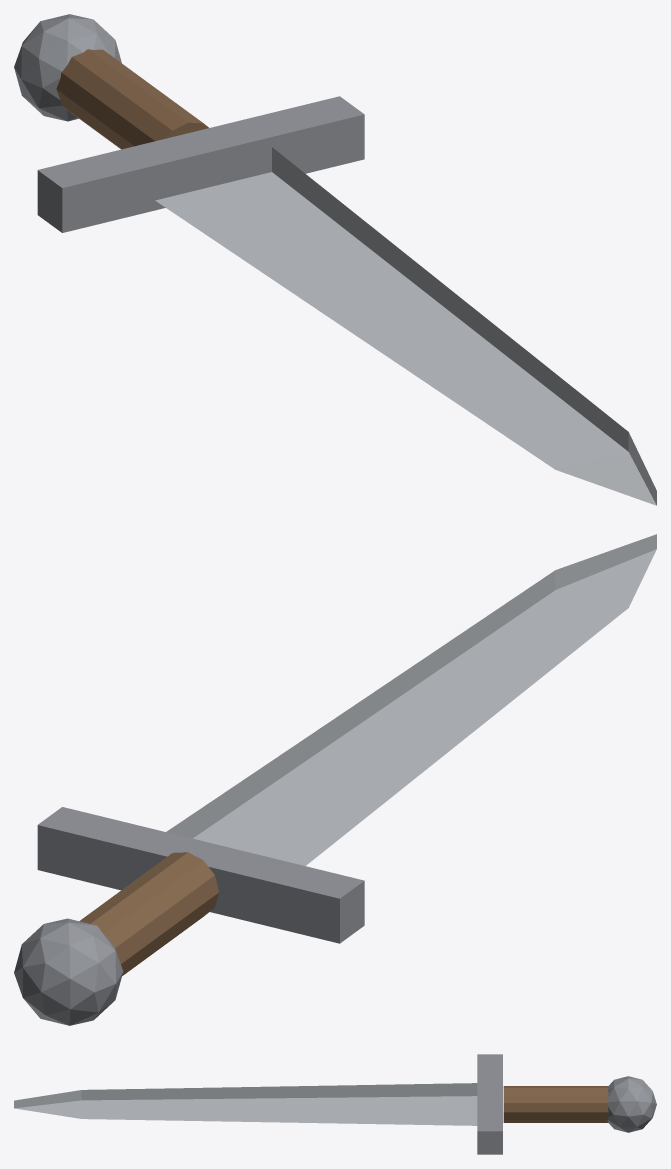
Rendered from broken_iron_broadsword.glb.
3 renders of one model, top to bottom at view 1: azimuth 30°, elevation 25°; view 2: azimuth 150°, elevation 25°; view 3: azimuth 270°, elevation 25°, orthographic. The views are drawn at different scales.
Parts seen in each view (by area): view 1: sword_0_0, sword_0_1, sword_0_2, sword_0_3; view 2: sword_0_0, sword_0_1, sword_0_3, sword_0_2; view 3: sword_0_0, sword_0_2, sword_0_1, sword_0_3.
Boxes of the visible parts, x1,y1,x2,y2 form: sword_0_0: (155,147,656,505); sword_0_1: (37,96,364,232); sword_0_2: (56,49,208,149); sword_0_3: (14,14,121,121); sword_0_0: (166,534,656,865); sword_0_1: (37,807,364,943); sword_0_3: (14,918,123,1025); sword_0_2: (79,852,218,975); sword_0_0: (14,1083,477,1125); sword_0_2: (503,1086,608,1122); sword_0_1: (477,1054,502,1154); sword_0_3: (607,1076,656,1132).
Bounding box in the file's own units: 1.27 × 0.3969 × 4.46.
